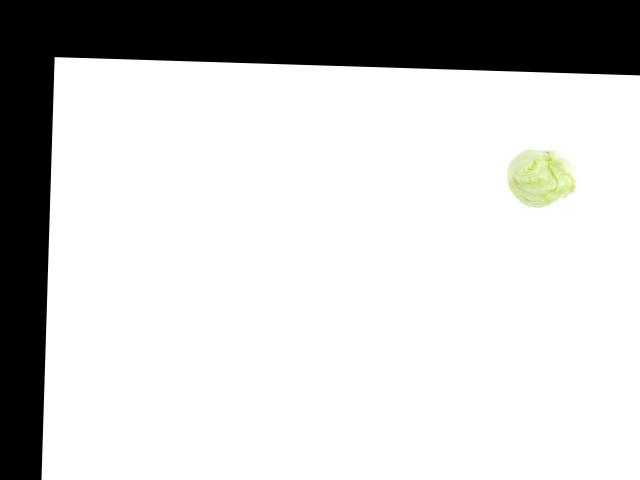lettuce: (499, 148, 584, 215)
